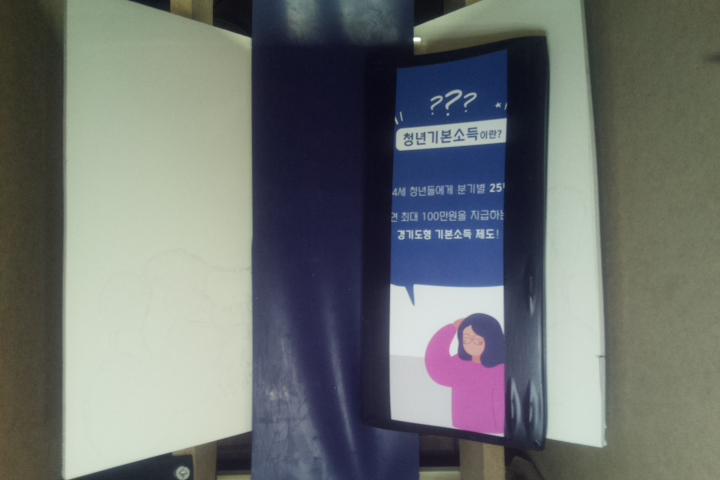book: (370, 36, 549, 456)
